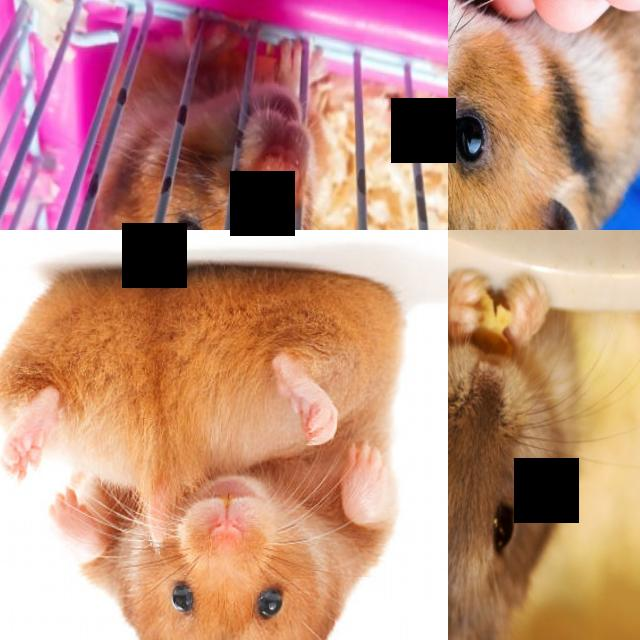hamster: (0, 260, 414, 640), (448, 264, 591, 640), (75, 22, 328, 230), (448, 0, 640, 230)
